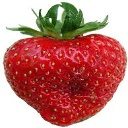strawberry: (2, 4, 128, 128)
